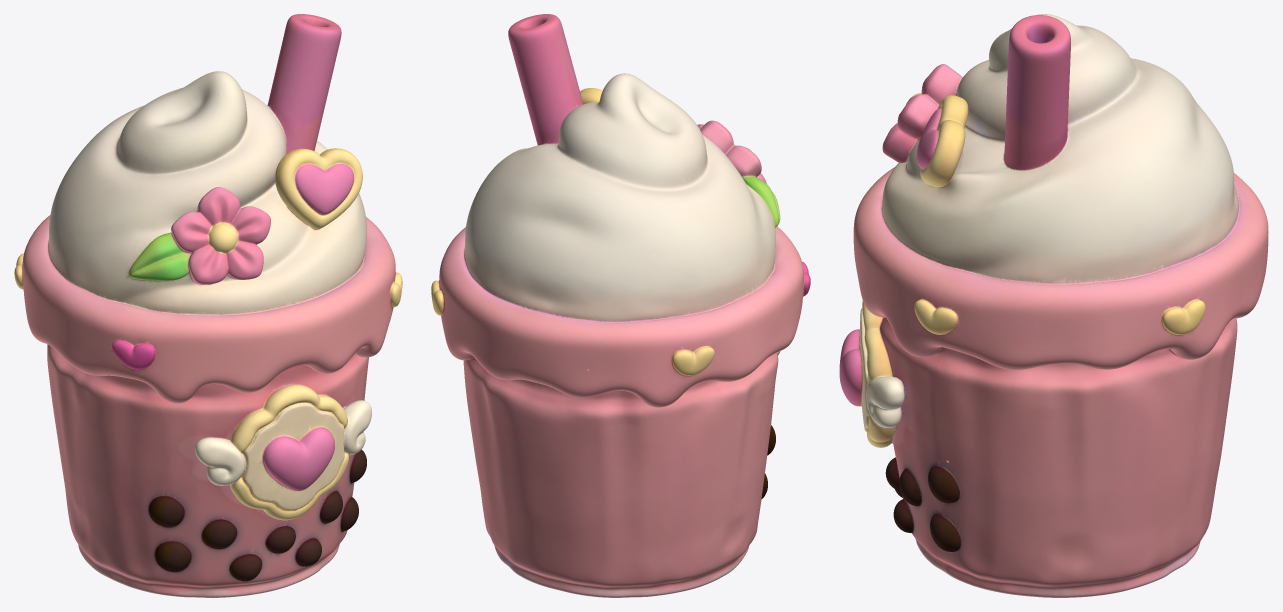
File: Meshy_AI_Pink_Dream_Bubble_Tea_0601174225_texture.fbx
3 views of the same model, side by side, from view 1: azimuth 30°, elevation 25°; view 2: azimuth 150°, elevation 25°; view 3: azimuth 270°, elevation 25° (orthographic). The views are drawn at different scales.
Visible parts, largest first — view 1: Mesh_0; view 2: Mesh_0; view 3: Mesh_0.
Part boxes in pixels (<box>): Mesh_0: <box>14,14,402,597</box>; Mesh_0: <box>431,14,810,597</box>; Mesh_0: <box>839,14,1268,597</box>.
Size of the model in its own units: 123 by 190 by 130.
Materials: 1 (1 with a texture image).
